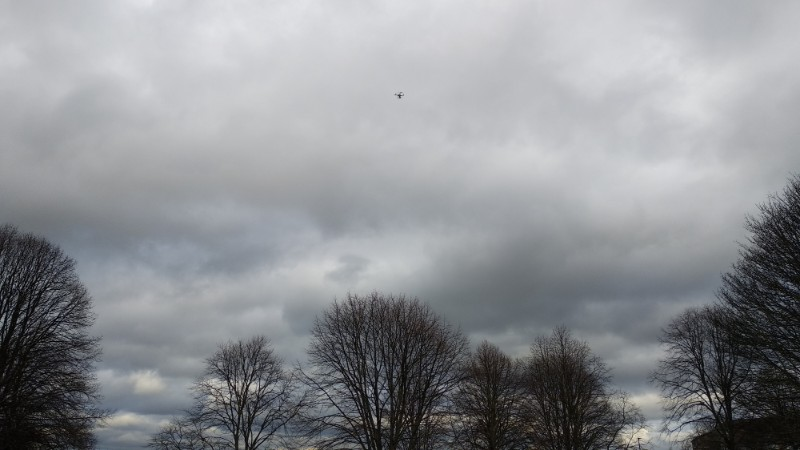drone: (394, 90, 405, 100)
